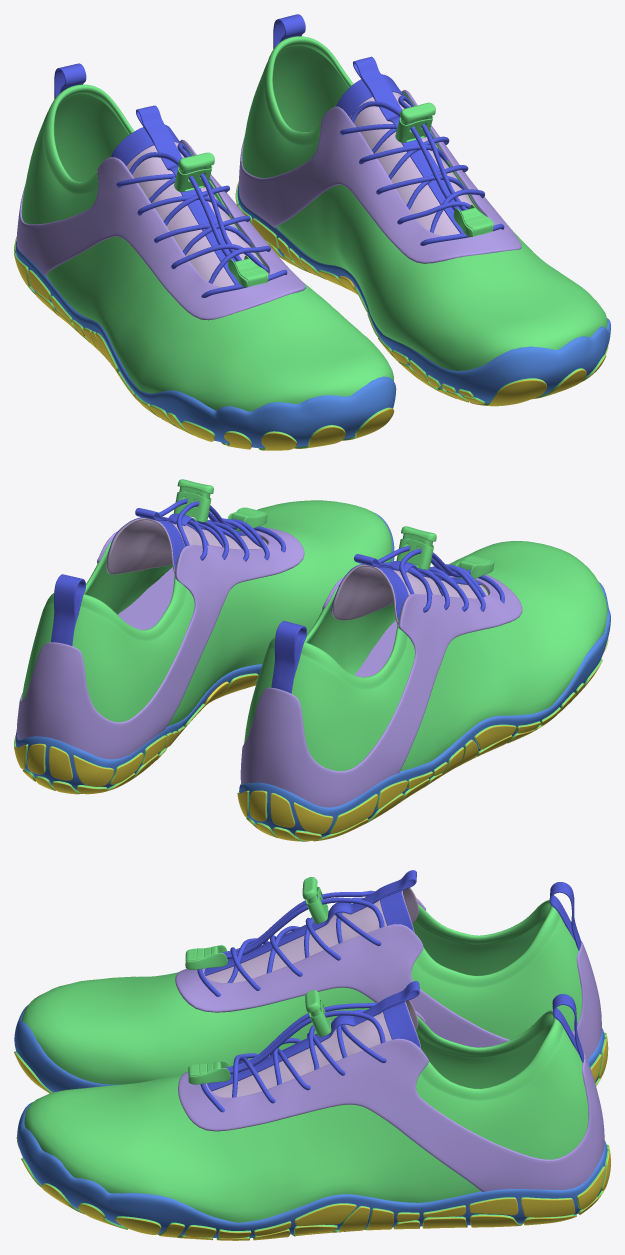
File: pair_spread_shoe1.glb
The picture shows the model from 3 angles, top to bottom: view 1: azimuth 30°, elevation 25°; view 2: azimuth 150°, elevation 25°; view 3: azimuth 270°, elevation 25°; orthographic projection.
Parts seen in each view (by area): view 1: GERRIT_Material #25_0.005, GERRIT_Material #25_0.002, GERRIT_Material #25_0.006, GERRIT_Material #25_0.003; view 2: GERRIT_Material #25_0.005, GERRIT_Material #25_0.002, GERRIT_Material #25_0.006, GERRIT_Material #25_0.003; view 3: GERRIT_Material #25_0.002, GERRIT_Material #25_0.005, GERRIT_Material #25_0.003, GERRIT_Material #25_0.006.
Part boxes in pixels (x1,y1,x2,y2): GERRIT_Material #25_0.005: (14,63,393,449); GERRIT_Material #25_0.002: (236,14,607,404); GERRIT_Material #25_0.006: (14,141,396,450); GERRIT_Material #25_0.003: (235,92,610,406); GERRIT_Material #25_0.005: (238,541,607,840); GERRIT_Material #25_0.002: (14,498,392,793); GERRIT_Material #25_0.006: (237,526,610,841); GERRIT_Material #25_0.003: (14,479,394,794); GERRIT_Material #25_0.002: (21,981,609,1239); GERRIT_Material #25_0.005: (15,870,606,1092); GERRIT_Material #25_0.003: (16,990,610,1240); GERRIT_Material #25_0.006: (14,877,608,1093).
Size of the model in its own units: 0.1968 by 0.1041 by 0.2461.
